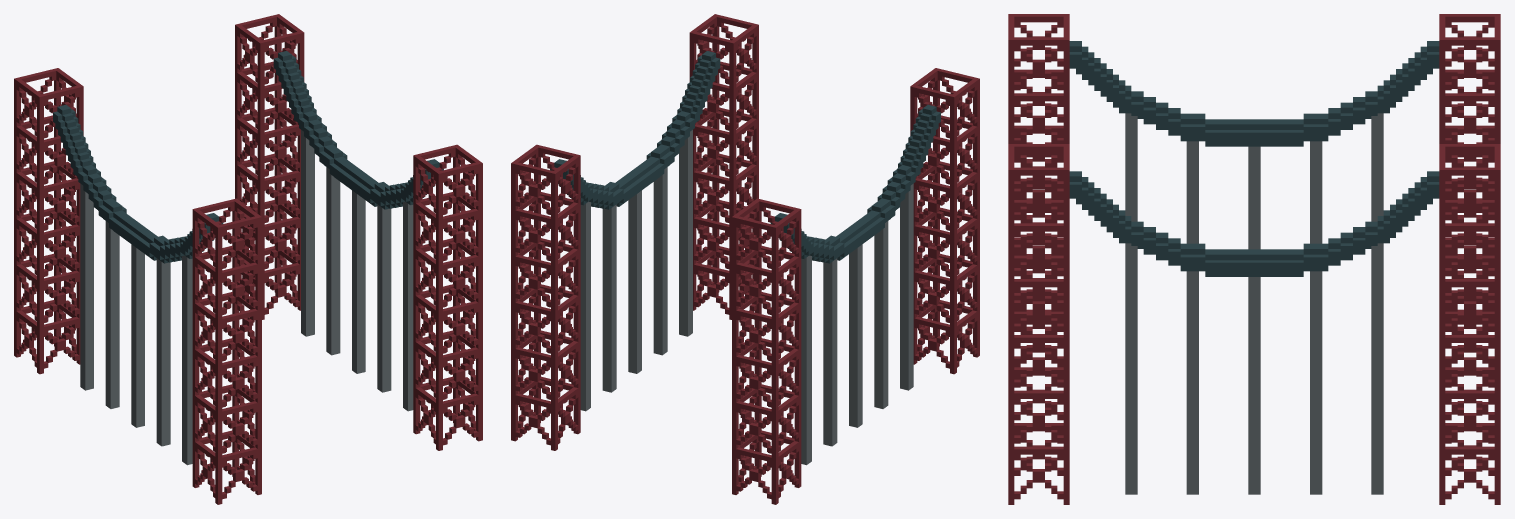
Rendered from bridge_suspension.obj.
The picture shows the model from 3 angles, left to right: view 1: azimuth 30°, elevation 25°; view 2: azimuth 150°, elevation 25°; view 3: azimuth 270°, elevation 25°; orthographic projection. The views are drawn at different scales.
Size of the model in its own units: 6 by 6 by 8.
1 material, 1 textured.
